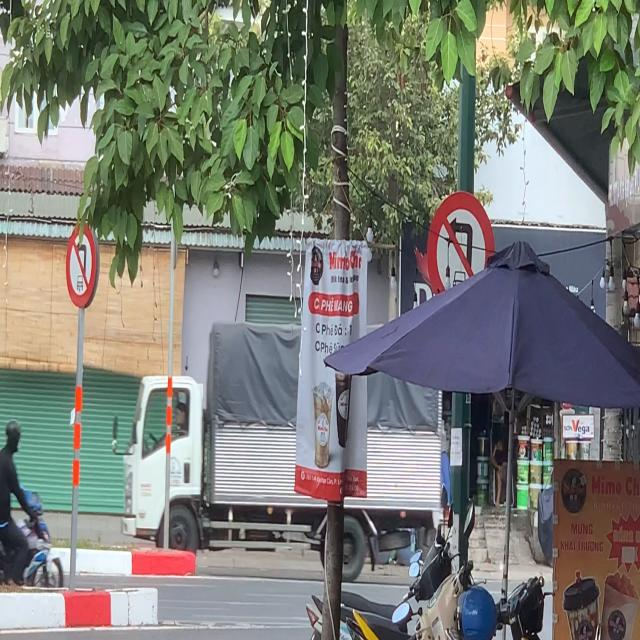Cam re trai: (424, 186, 495, 279), (67, 222, 97, 308)
